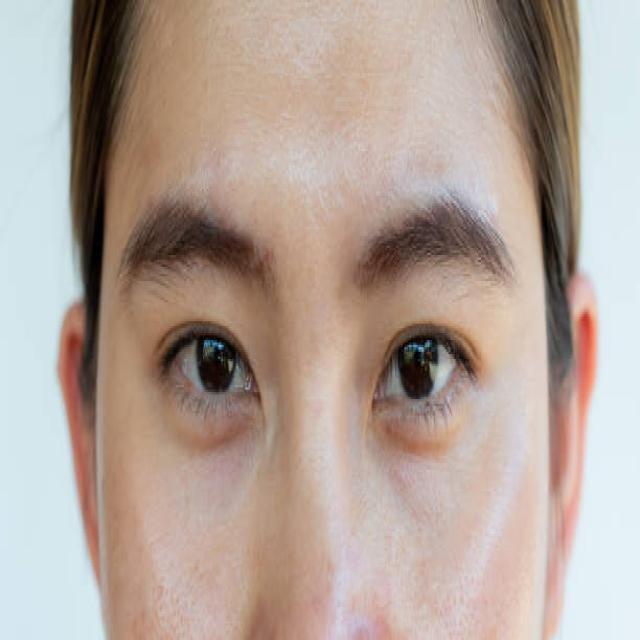Dry-Skin: (222, 11, 313, 222), (145, 439, 294, 555), (145, 30, 224, 233), (394, 57, 454, 204), (382, 484, 457, 579)
